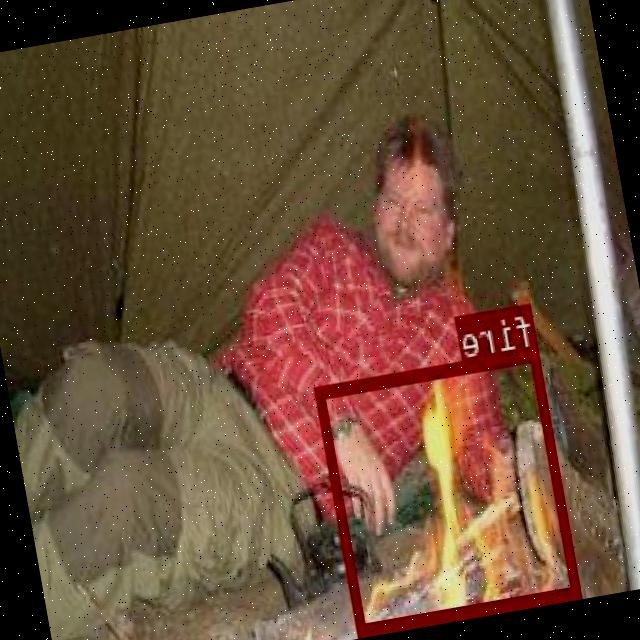fire: (316, 345, 582, 632)
